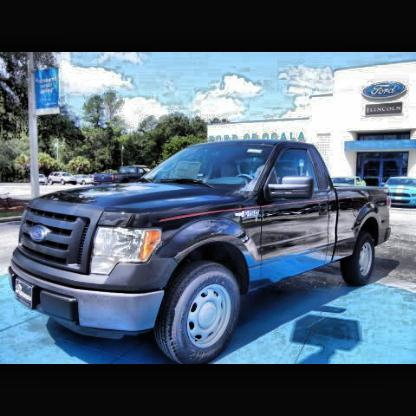Ford F-150 Regular Cab 2012: (9, 142, 391, 365)
